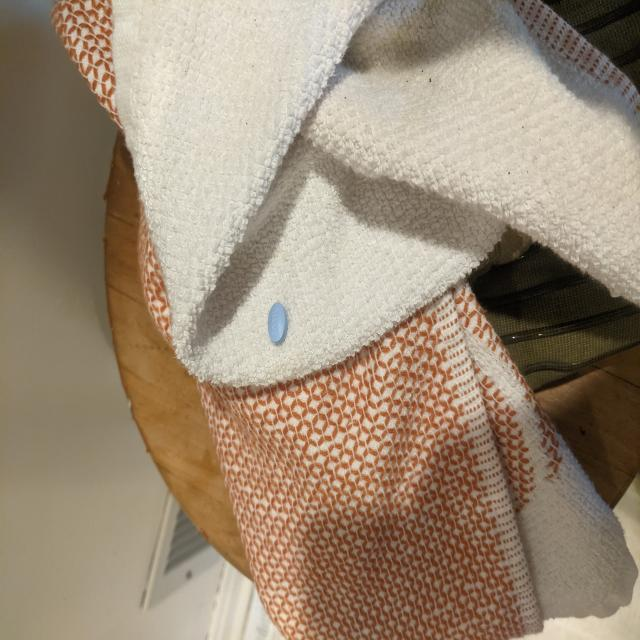non-organic waste: (267, 302, 289, 346)
